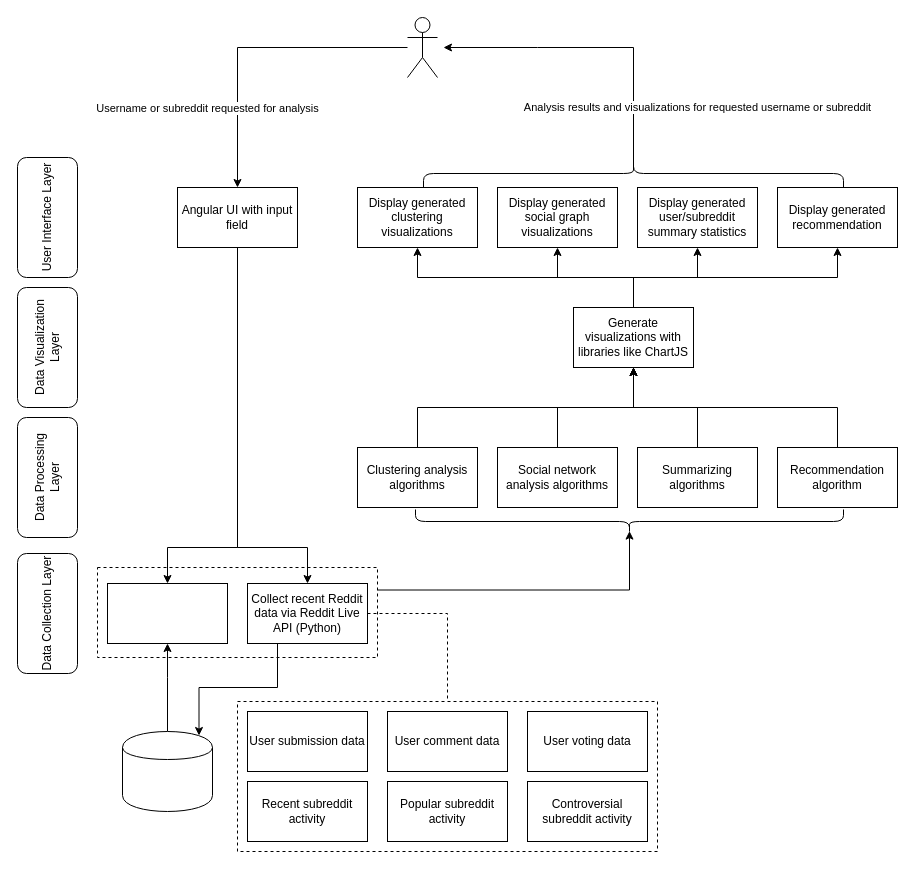
The diagram is 915 pixels wide and 869 high, and some of its shapes have lost their labels. The centre of each missing label's shape, as x and y in pixels:
Access historical Reddit data from BigQuery: (167,613)
PostgreSQL Database: (167,771)
User: (422,47)
